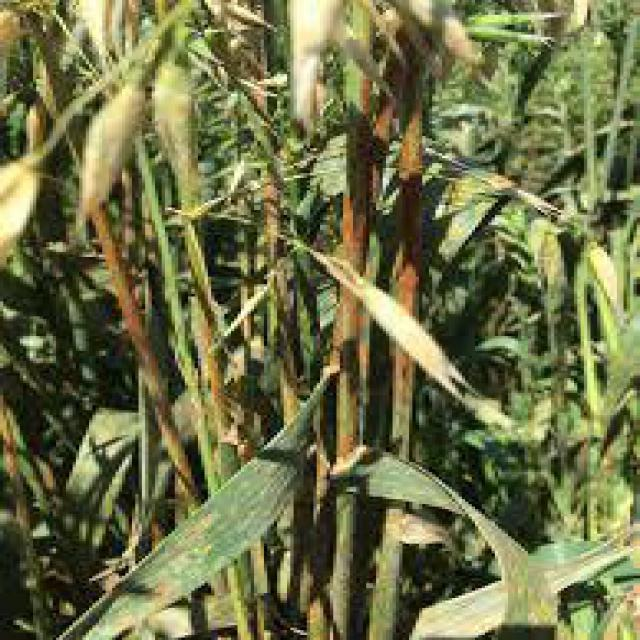wheat-stemrust: (94, 201, 199, 513), (393, 79, 428, 324), (344, 92, 379, 275), (343, 287, 364, 469)
